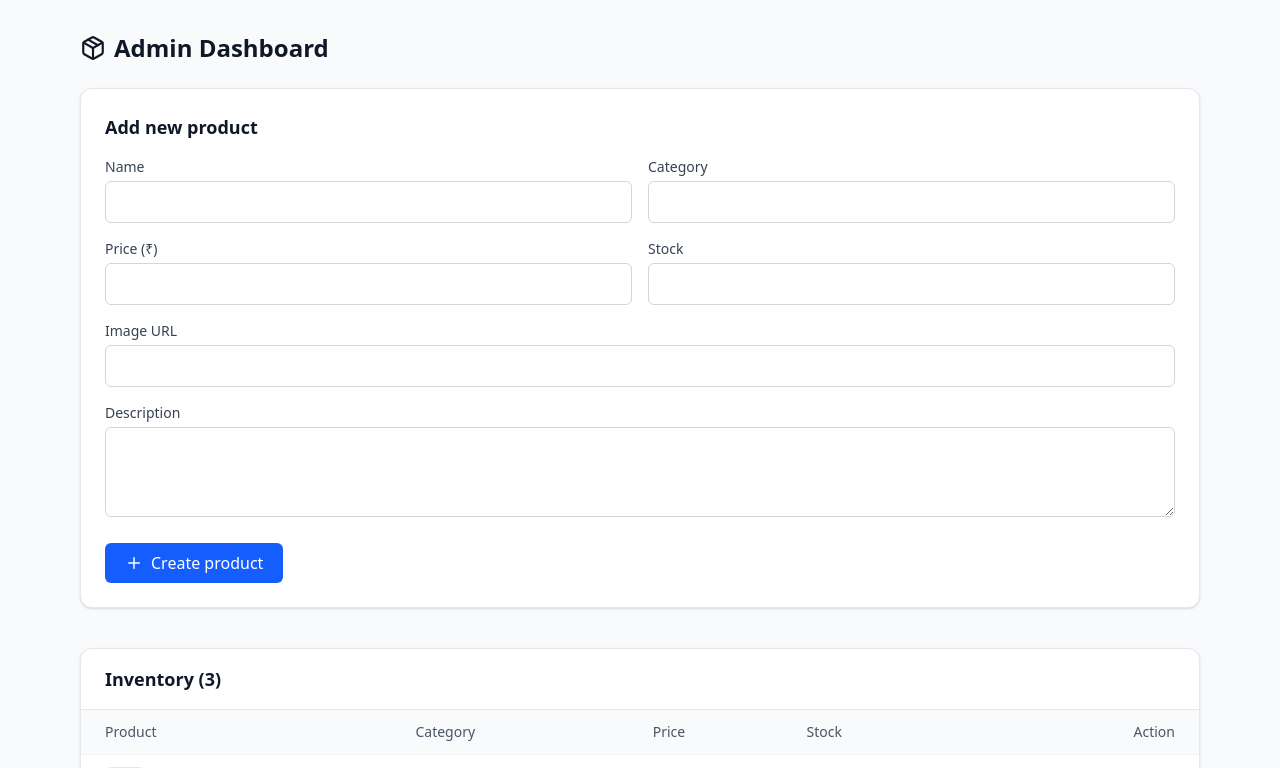
Scenario: AdminDashboard › create product › posts the form with price and stock as numbers, shows success, clears the form and reloads
Expected: the heading "Inventory (3)" is shown, [81,649,1199,710]
Type "Monitor" into the field below "Name" at (368, 202), box [105,181,632,223]
Type "electronics" into the 2nd field at (912, 202), box [648,181,1175,223]
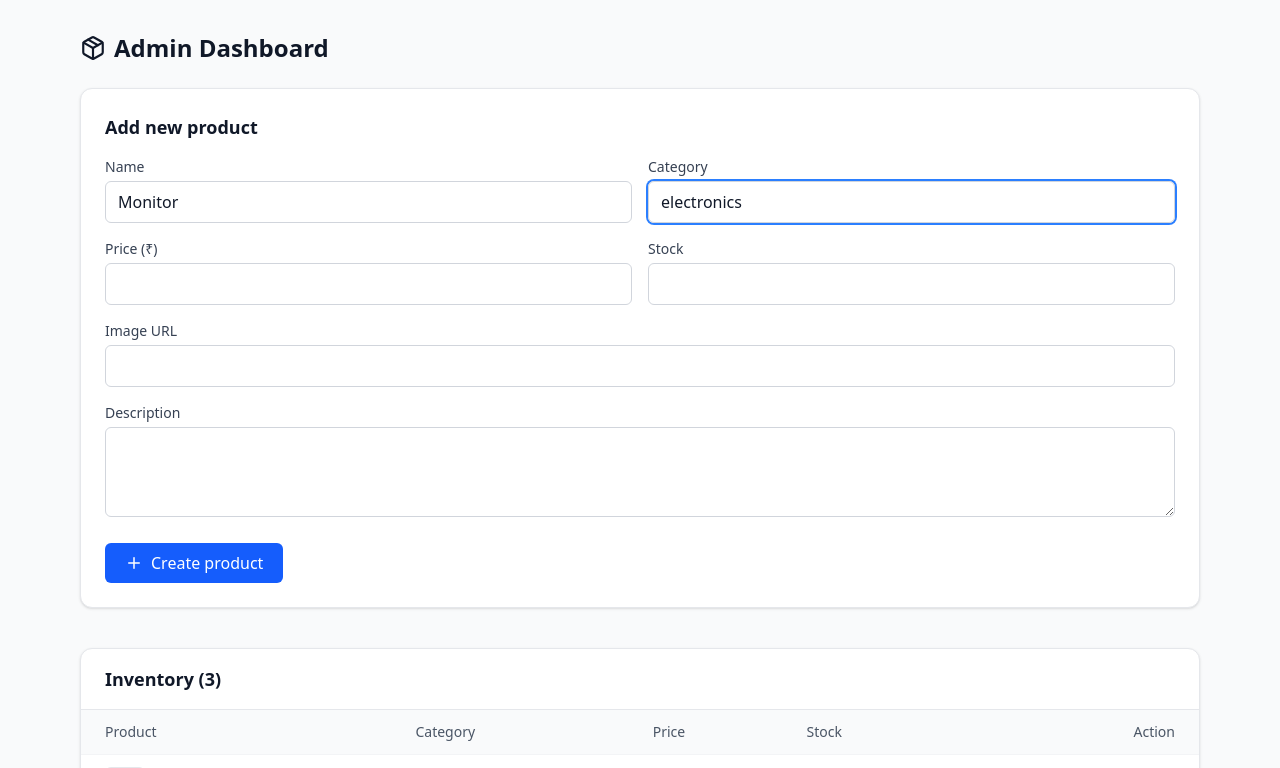
Type "1200" into the number field below "Price (₹)" at (368, 284), box [105,263,632,305]
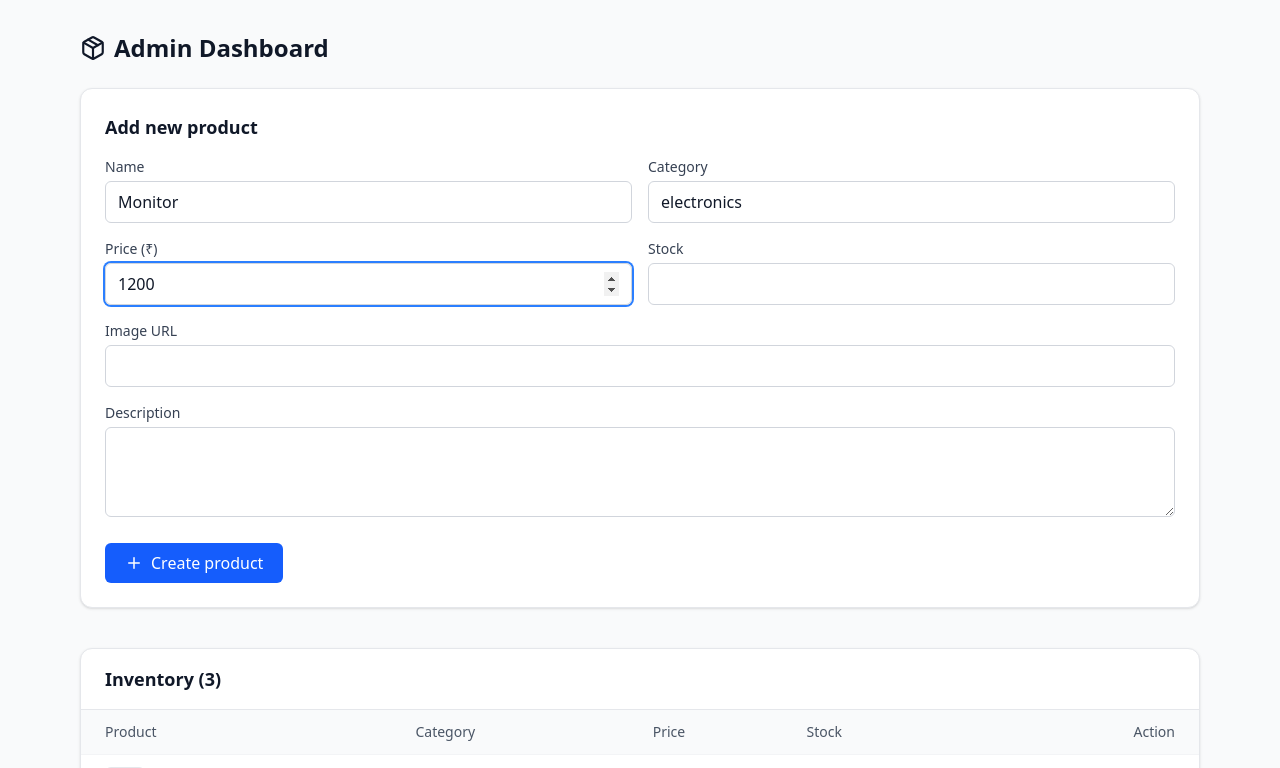
Type "7" into the 2nd number field at (912, 284), box [648,263,1175,305]
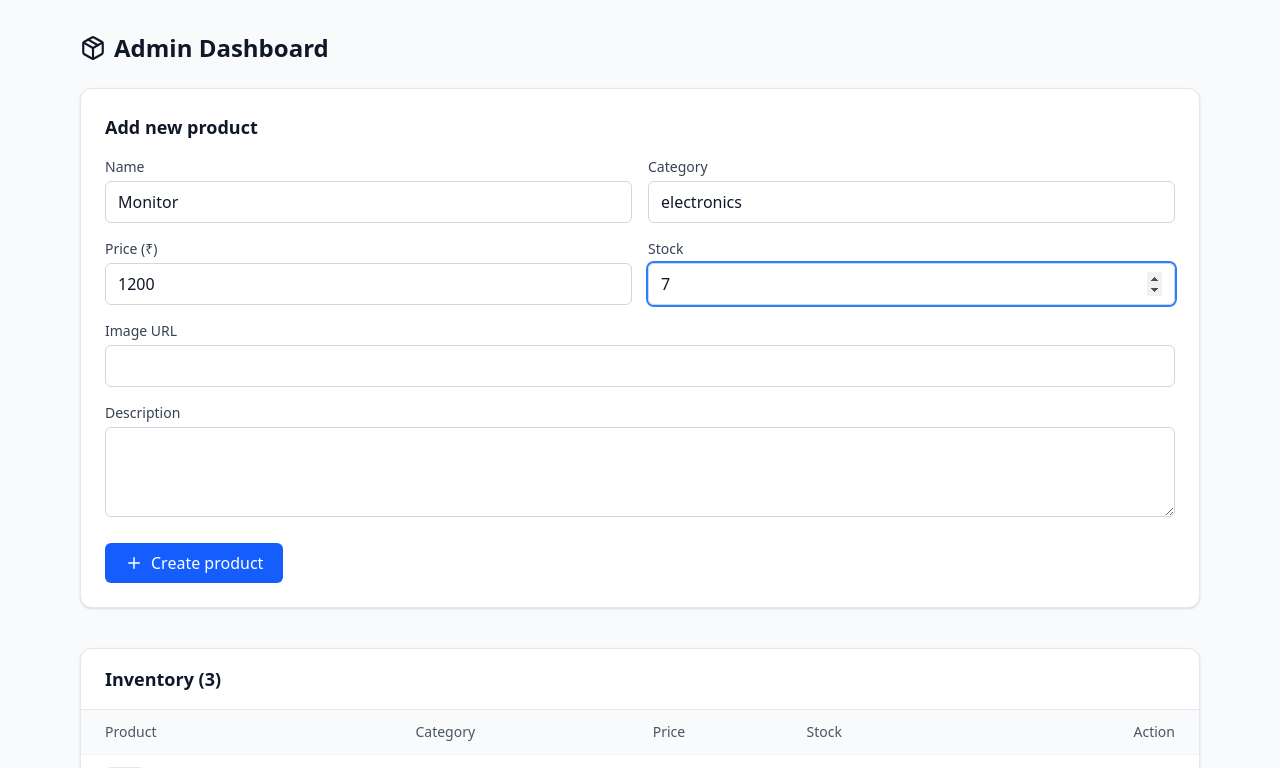
Type "https://img.test/monitor.png" into the field below "Image URL" at (640, 366), box [105,345,1175,387]
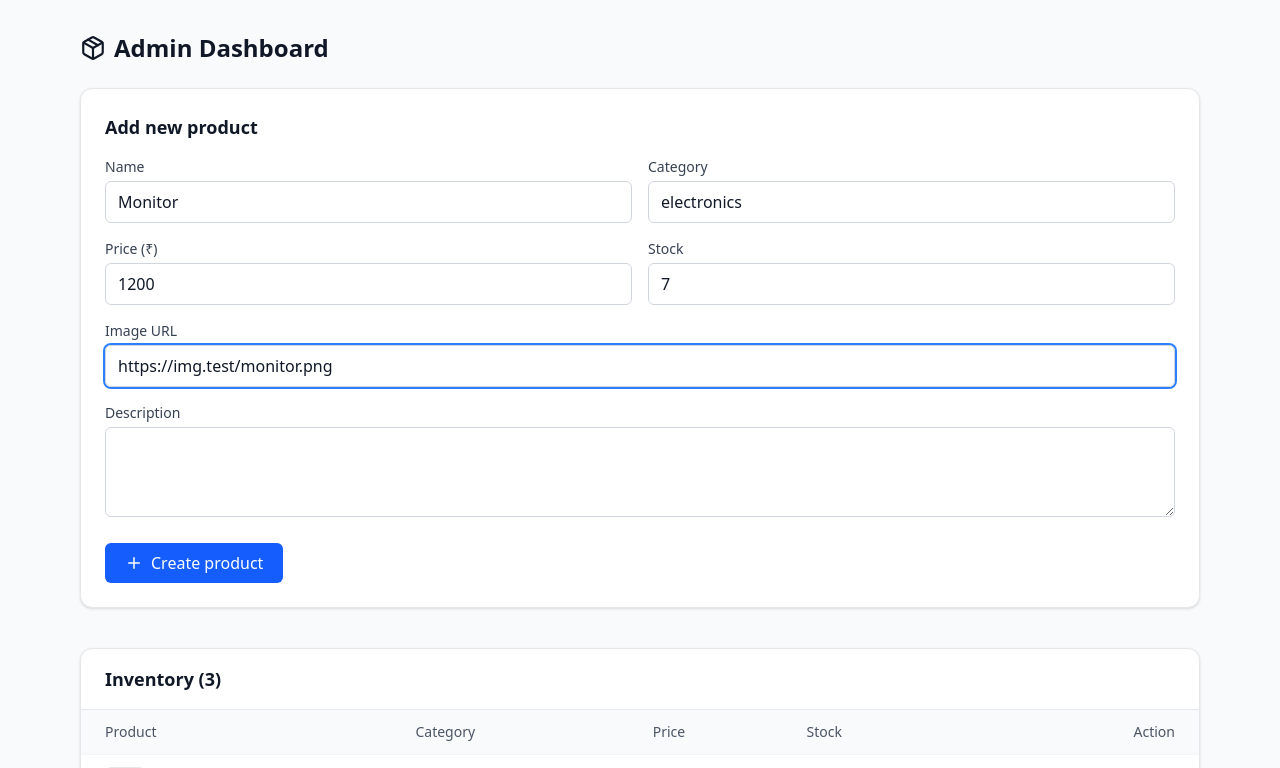
Type "A 24 inch monitor" into the text box at (640, 472), box [105,427,1175,517]
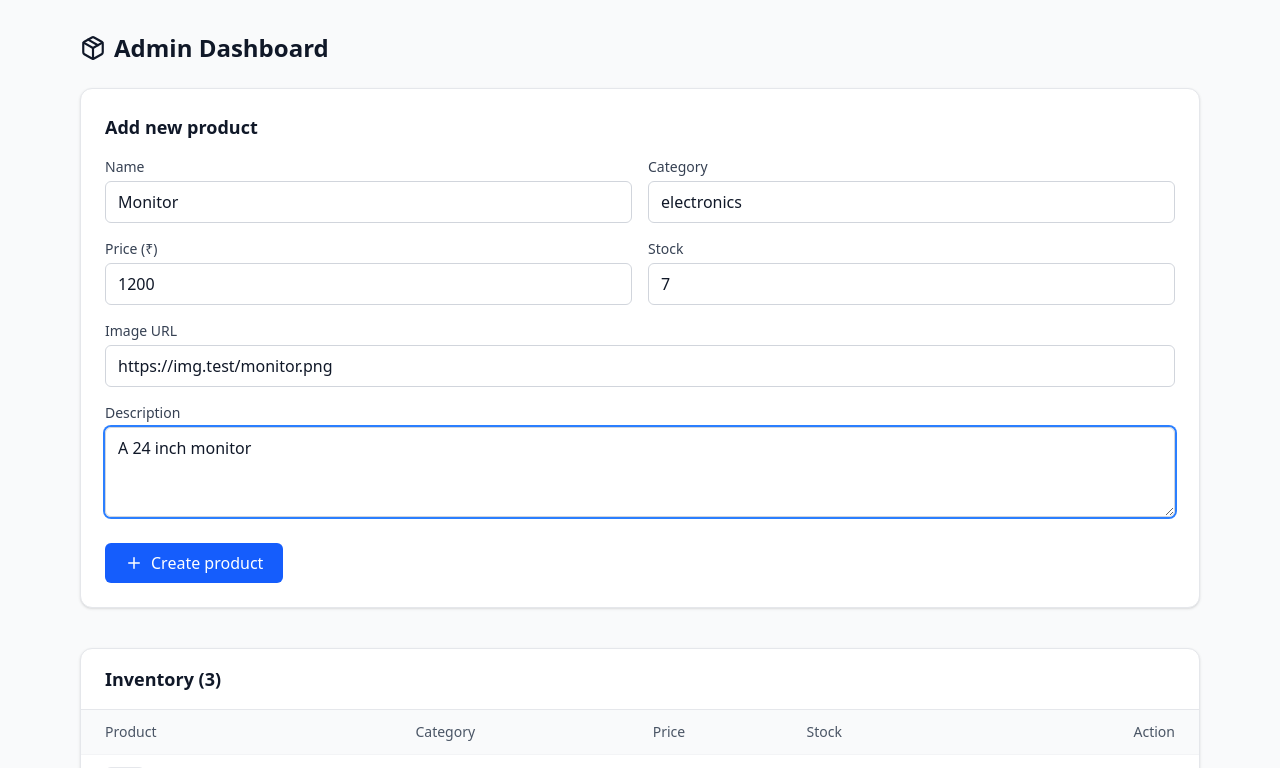
Click the button "Create product" at (194, 563), box [105,543,283,583]
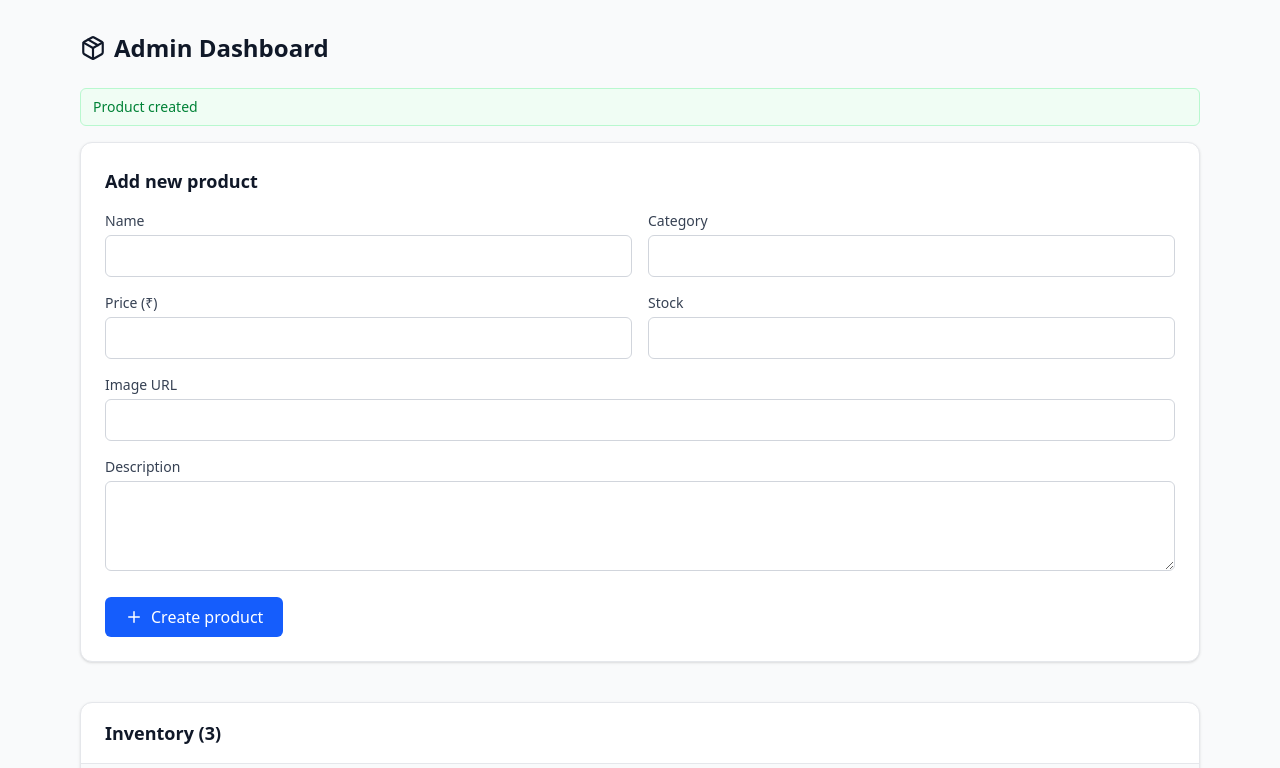
Expected: the text "Product created" is shown, [80,88,1200,126]
